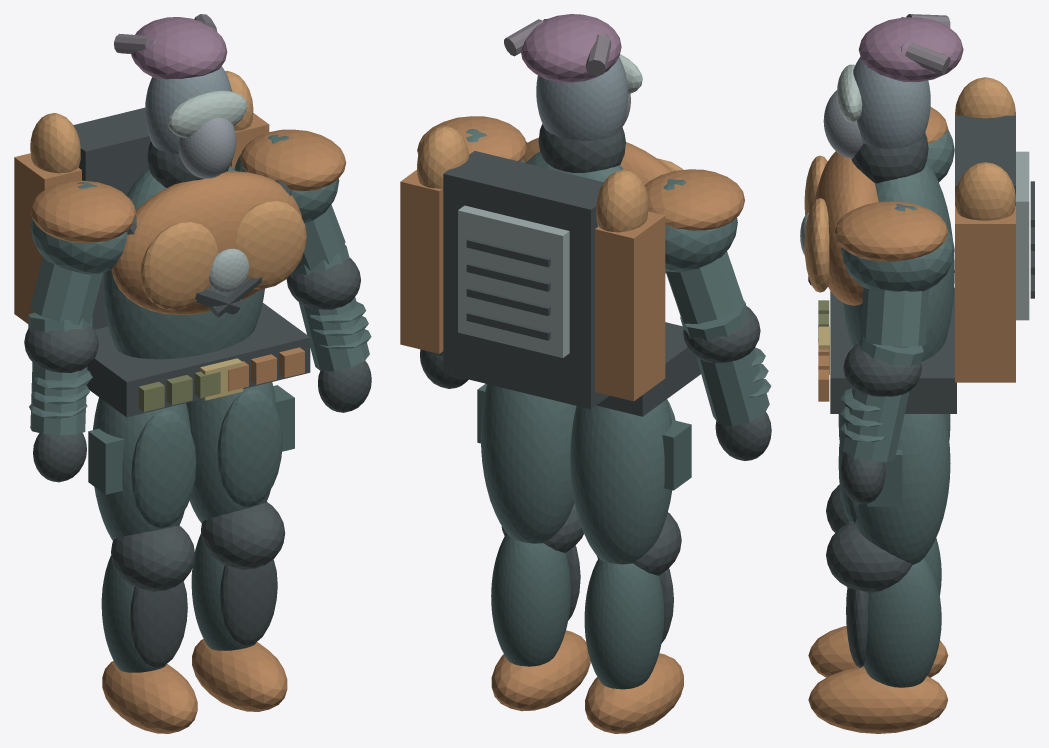
Rendered from trandor_prototype.glb.
3 renders of one model, left to right at view 1: azimuth 30°, elevation 25°; view 2: azimuth 150°, elevation 25°; view 3: azimuth 270°, elevation 25°, orthographic. The views are drawn at different scales.
Visible parts, largest first — view 1: upper_armour, torso_suit, belt, thigh_panel_1, thigh_panel_-1, backpack_main, chest_plate_-1, shoulder_cap_-1, boot_-1, boot_1, shoulder_cap_1, chest_plate_1 (+39 smaller); view 2: backpack_main, thigh_-1, thigh_1, backpack_side_-1, backpack_panel, shin_-1, shin_1, backpack_side_1, head, shoulder_cap_-1, upper_arm_-1, crest (+24 smaller); view 3: backpack_side_1, thigh_1, shin_1, boot_1, shoulder_cap_1, head, belt, upper_arm_1, torso_suit, crest, upper_armour, knee_1 (+24 smaller).
Boxes of the visible parts, bbox=[...] form: upper_armour: bbox=[111, 171, 301, 314]; torso_suit: bbox=[103, 165, 264, 359]; belt: bbox=[86, 303, 310, 417]; thigh_panel_1: bbox=[217, 389, 282, 507]; thigh_panel_-1: bbox=[131, 410, 196, 528]; backpack_main: bbox=[73, 107, 150, 329]; chest_plate_-1: bbox=[140, 222, 217, 310]; shoulder_cap_-1: bbox=[30, 180, 135, 243]; boot_-1: bbox=[102, 661, 197, 733]; boot_1: bbox=[192, 639, 287, 711]; shoulder_cap_1: bbox=[240, 129, 346, 191]; chest_plate_1: bbox=[235, 201, 306, 289]; backpack_main: bbox=[443, 151, 609, 409]; thigh_-1: bbox=[570, 399, 672, 564]; thigh_1: bbox=[480, 384, 576, 543]; backpack_side_-1: bbox=[595, 211, 665, 401]; backpack_panel: bbox=[458, 205, 569, 357]; shin_-1: bbox=[584, 558, 664, 689]; shin_1: bbox=[491, 533, 570, 666]; backpack_side_1: bbox=[400, 170, 443, 353]; head: bbox=[536, 57, 628, 140]; shoulder_cap_-1: bbox=[644, 169, 744, 230]; upper_arm_-1: bbox=[665, 251, 748, 341]; crest: bbox=[521, 14, 621, 82]; backpack_side_1: bbox=[955, 205, 1015, 382]; thigh_1: bbox=[855, 414, 950, 564]; shin_1: bbox=[863, 557, 941, 687]; boot_1: bbox=[808, 667, 947, 733]; shoulder_cap_1: bbox=[834, 201, 948, 261]; head: bbox=[853, 56, 930, 148]; belt: bbox=[830, 287, 956, 413]; upper_arm_1: bbox=[859, 287, 928, 367]; torso_suit: bbox=[843, 161, 954, 361]; crest: bbox=[858, 17, 963, 82]; upper_armour: bbox=[814, 151, 878, 305]; knee_1: bbox=[826, 522, 912, 592].
Bounding box in the file's own units: 0.898 × 1.73 × 0.537.
